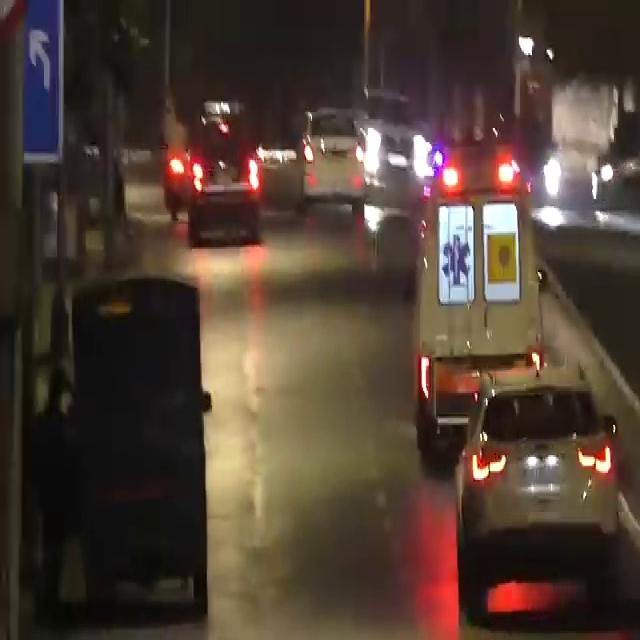ambulance: (412, 137, 552, 411)
